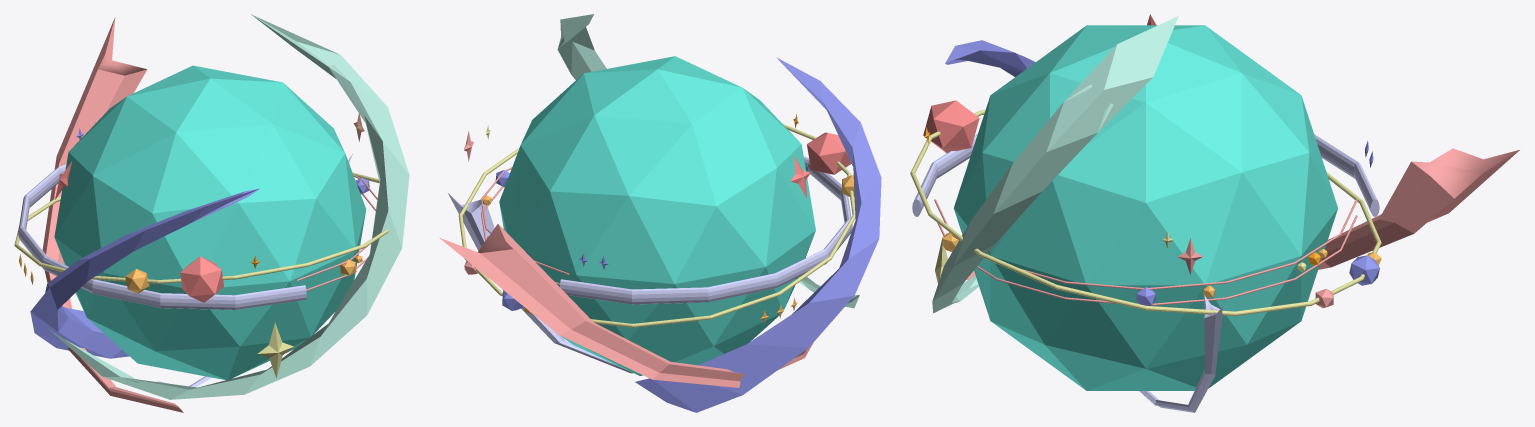
Rendered from water block colored.fbx.
3 renders of one model, left to right at view 1: azimuth 30°, elevation 25°; view 2: azimuth 150°, elevation 25°; view 3: azimuth 270°, elevation 25°, orthographic. The views are drawn at different scales.
Visible parts, largest first — view 1: Icosphere, Circle_013, Circle_014, Circle_015, Circle_003, star_ring1, Icosphere_009, Circle_016, Icosphere_008, Circle_002; view 2: Icosphere, Circle_014, Circle_015, Circle_003, star_ring1, Circle_013, Circle_001, Icosphere_009, Circle_002; view 3: Icosphere, Circle_013, Circle_015, star_ring1, Circle_003, Circle_002, Icosphere_009, Circle_001, Circle_014, Icosphere_010.
Boxes of the visible parts, box(x1,y1,x2,y2) form: Icosphere: box(54, 65, 366, 379); Circle_013: box(48, 14, 409, 399); Circle_014: box(30, 188, 259, 358); Circle_015: box(42, 17, 183, 412); Circle_003: box(18, 164, 306, 309); star_ring1: box(14, 172, 388, 283); Icosphere_009: box(180, 256, 223, 302); Circle_016: box(258, 322, 293, 377); Icosphere_008: box(125, 269, 149, 293); Circle_002: box(297, 174, 377, 291); Icosphere: box(499, 56, 815, 375); Circle_014: box(635, 57, 881, 412); Circle_015: box(439, 224, 812, 387); Circle_003: box(560, 156, 852, 304); star_ring1: box(458, 123, 855, 327); Circle_013: box(557, 14, 859, 308); Circle_001: box(448, 193, 633, 373); Icosphere_009: box(807, 132, 851, 174); Circle_002: box(480, 167, 569, 285); Icosphere: box(953, 25, 1337, 390); Circle_013: box(932, 16, 1178, 313); Circle_015: box(966, 148, 1519, 280); star_ring1: box(910, 110, 1381, 316); Circle_003: box(912, 134, 1379, 216); Circle_002: box(934, 199, 1357, 305); Icosphere_009: box(923, 100, 979, 153); Circle_001: box(1139, 295, 1222, 412); Circle_014: box(945, 40, 1035, 76); Icosphere_010: box(1349, 255, 1379, 285).
Bounding box in the file's own units: 264 × 236 × 318.
